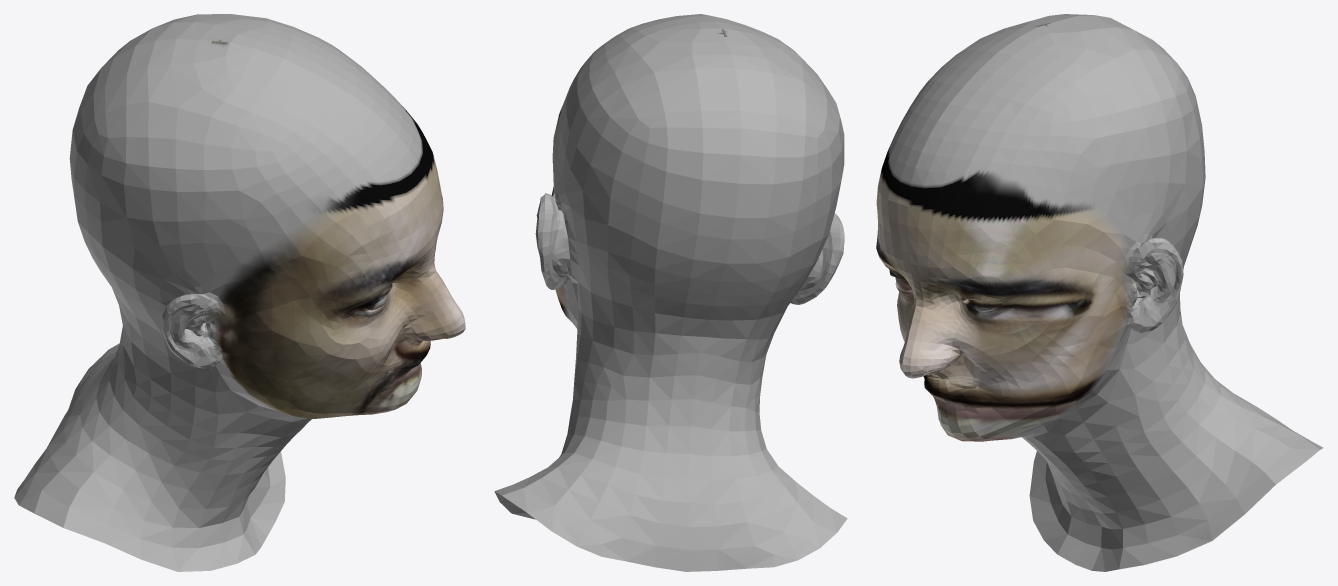
File: ezgif-frame-046.obj
3 views of the same model, side by side, from view 1: azimuth 30°, elevation 25°; view 2: azimuth 150°, elevation 25°; view 3: azimuth 270°, elevation 25° (orthographic). The views are drawn at different scales.
Bounding box in the file's own units: 0.212 × 0.3193 × 0.2521.
1 material, 1 textured.
